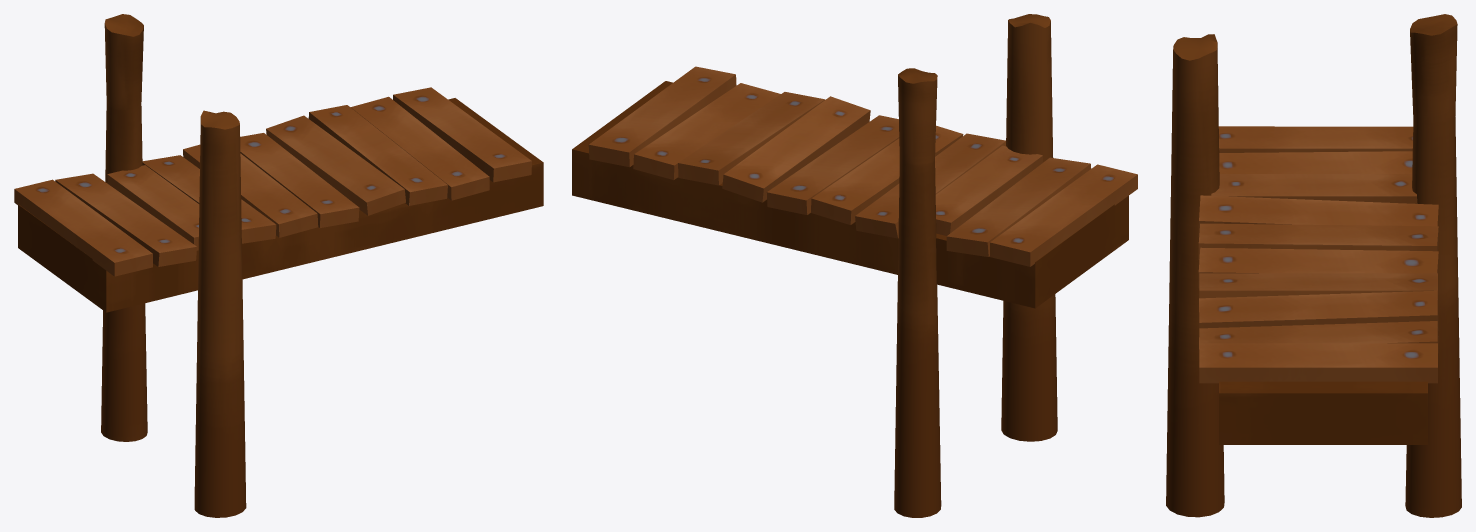
File: Fdocksmall.fbx
3 renders of one model, left to right at view 1: azimuth 30°, elevation 25°; view 2: azimuth 150°, elevation 25°; view 3: azimuth 270°, elevation 25°, orthographic. The views are drawn at different scales.
Visible parts, largest first — view 1: SmallDock; view 2: SmallDock; view 3: SmallDock.
Boxes of the visible parts, x1=… form: SmallDock: x1=14, y1=14, x2=543, y2=517; SmallDock: x1=572, y1=14, x2=1137, y2=517; SmallDock: x1=1166, y1=14, x2=1461, y2=517.
Size of the model in its own units: 572 by 512 by 283.
